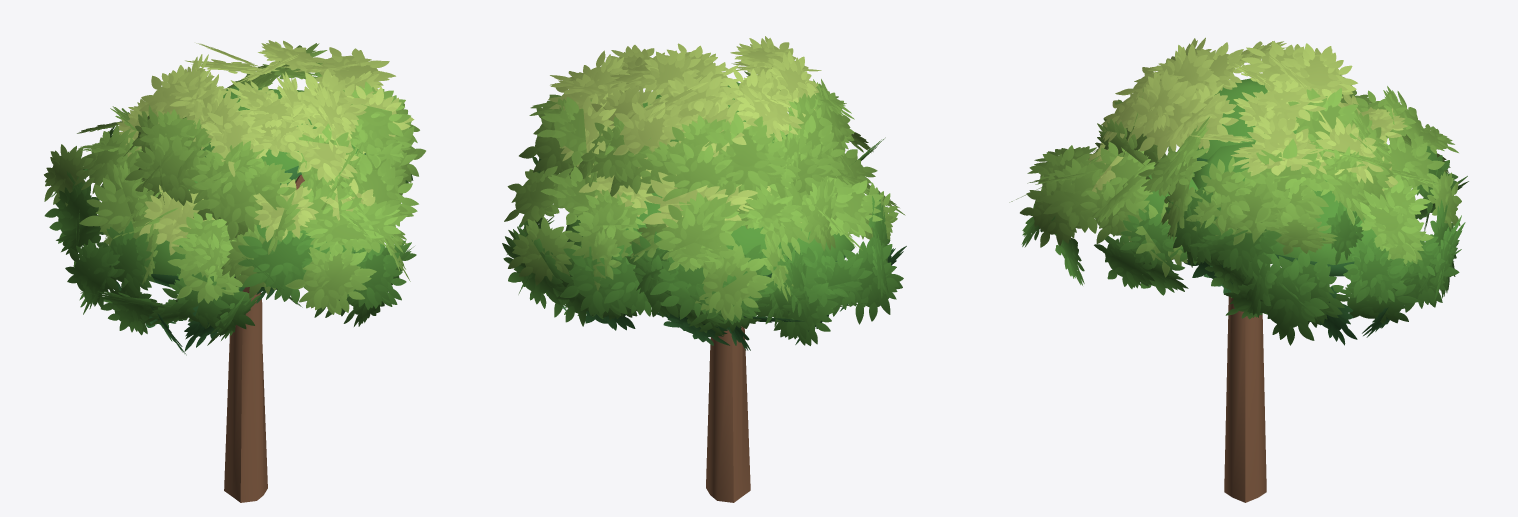
Rendered from tree_round_a.glb.
3 renders of one model, left to right at view 1: azimuth 30°, elevation 25°; view 2: azimuth 150°, elevation 25°; view 3: azimuth 270°, elevation 25°, orthographic. The views are drawn at different scales.
Parts seen in each view (by area): view 1: body; view 2: body; view 3: body.
Part boxes in pixels (x1,y1,x2,y2): body: [44, 40, 425, 502]; body: [502, 36, 906, 502]; body: [1009, 37, 1468, 502].
Size of the model in its own units: 4.88 by 5.5 by 5.51.
2 materials, 1 textured.
